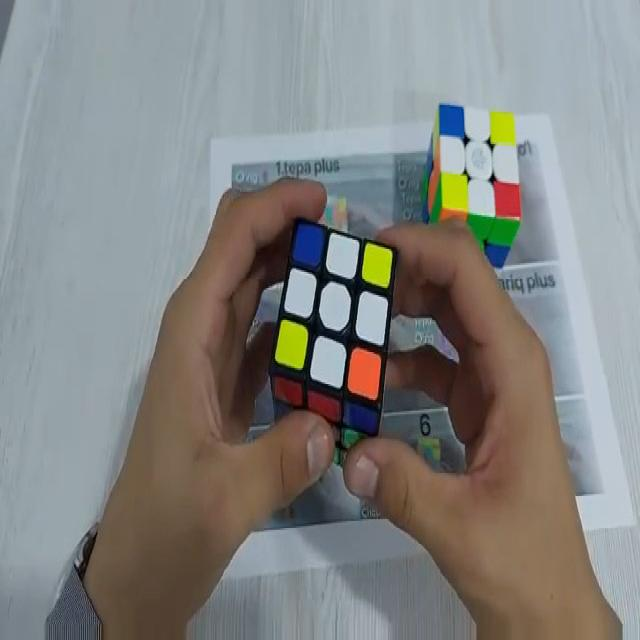Rub: (273, 215, 398, 467), (419, 99, 519, 281)
